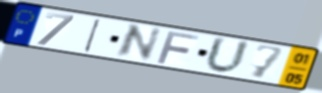7: (36, 10, 77, 46), (252, 43, 285, 82)
F: (155, 29, 202, 65)
I: (82, 17, 104, 54)
N: (112, 23, 164, 62)
U: (203, 35, 252, 76)
